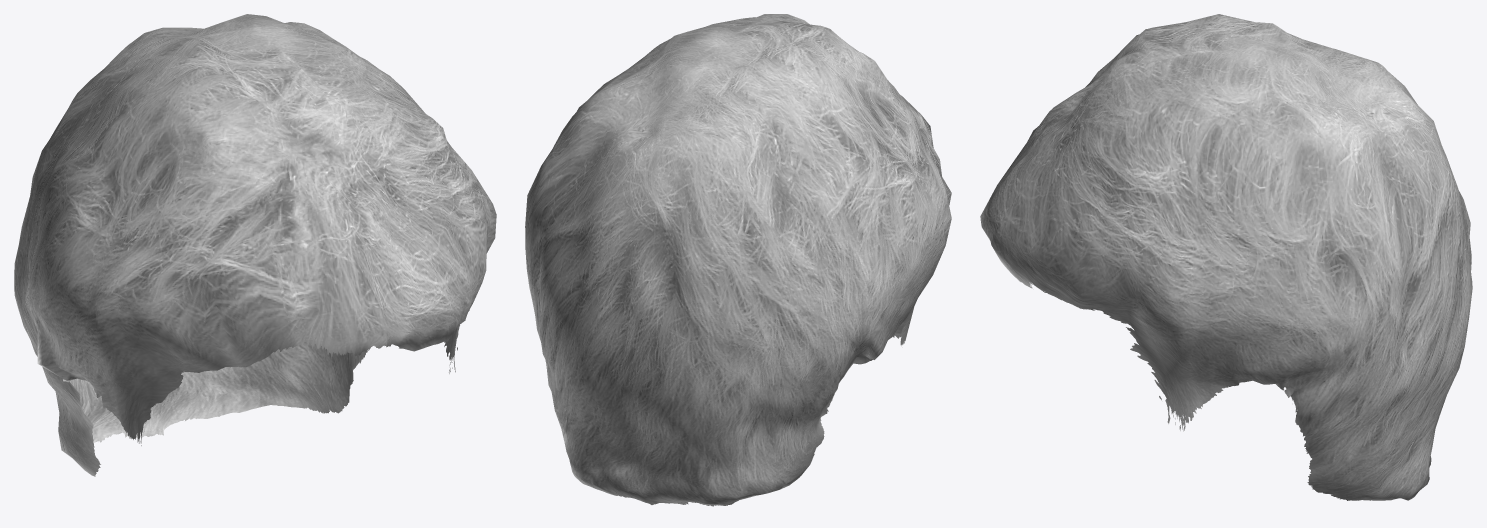
The model's file is short.glb.
The picture shows the model from 3 angles, left to right: view 1: azimuth 30°, elevation 25°; view 2: azimuth 150°, elevation 25°; view 3: azimuth 270°, elevation 25°; orthographic projection. The views are drawn at different scales.
Visible parts, largest first — view 1: Hair; view 2: Hair; view 3: Hair.
Part boxes in pixels (left/top/right/bottom): Hair: left=14, top=14, right=496, bottom=476; Hair: left=525, top=14, right=951, bottom=506; Hair: left=980, top=14, right=1472, bottom=500.
Bounding box in the file's own units: 0.1855 × 0.204 × 0.2112.
Materials: 1 (1 with a texture image).
